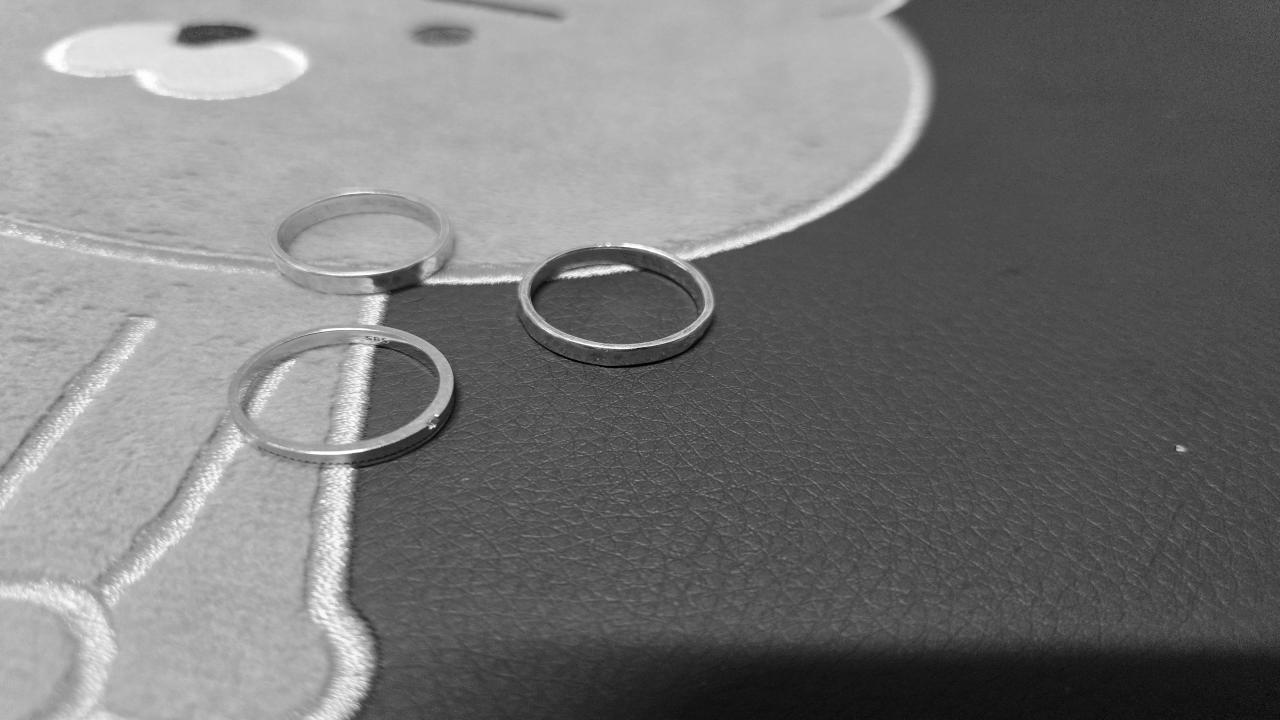ring: (228, 323, 459, 465), (514, 241, 717, 366), (264, 186, 455, 296)
